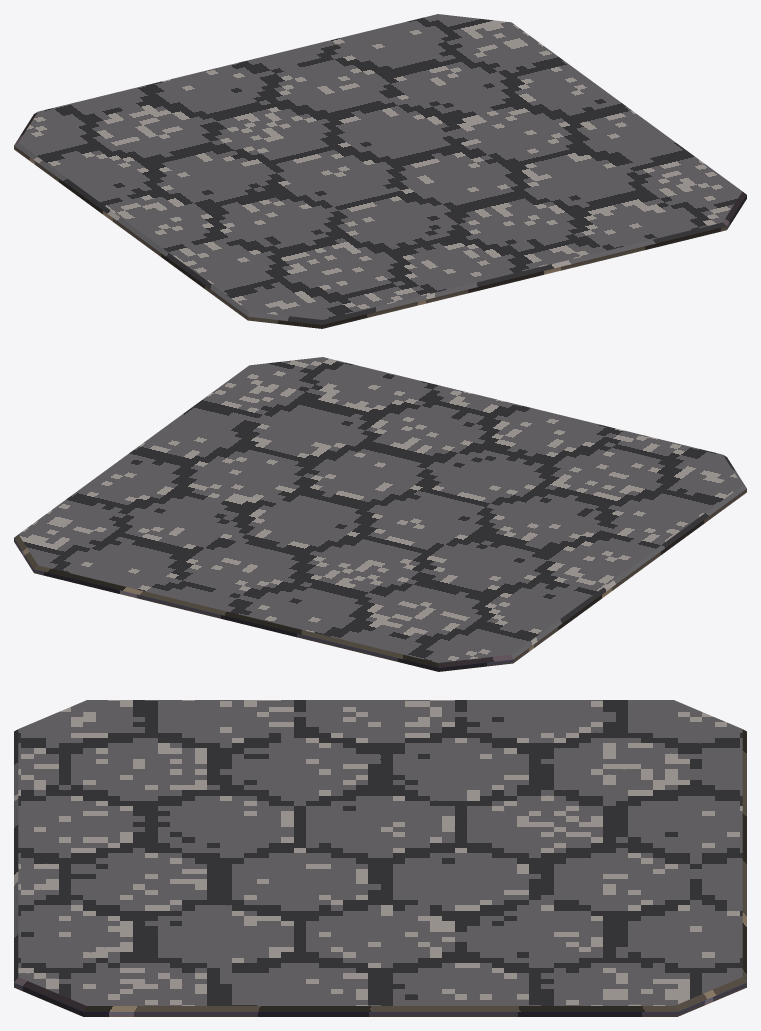
Rendered from stn.floor__plain.glb.
3 renders of one model, top to bottom at view 1: azimuth 30°, elevation 25°; view 2: azimuth 150°, elevation 25°; view 3: azimuth 270°, elevation 25°, orthographic. The views are drawn at different scales.
Parts seen in each view (by area): view 1: kit_plate; view 2: kit_plate; view 3: kit_plate.
Boxes of the visible parts, x1,y1,x2,y2 form: kit_plate: [14, 14, 746, 328]; kit_plate: [14, 357, 746, 671]; kit_plate: [14, 700, 746, 1016].
Size of the model in its own units: 3.7 by 0.05 by 3.7.
1 material, 1 textured.
